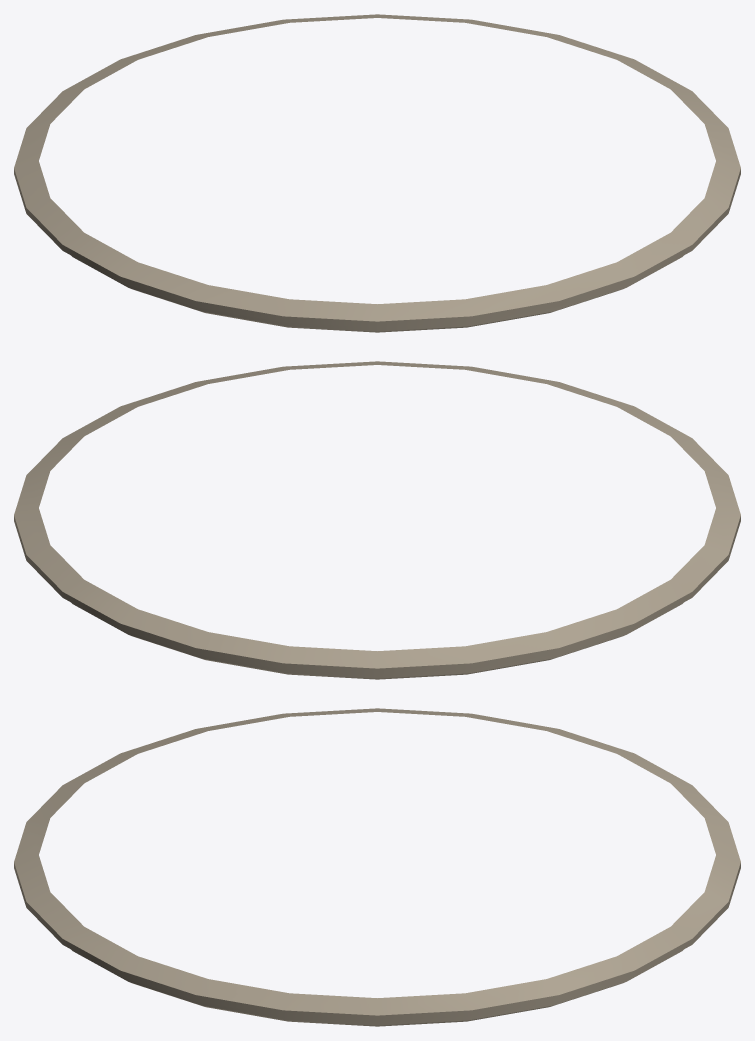
File: dome.trim_top.stone.glb
3 renders of one model, top to bottom at view 1: azimuth 30°, elevation 25°; view 2: azimuth 150°, elevation 25°; view 3: azimuth 270°, elevation 25°, orthographic.
Parts seen in each view (by area): view 1: dome_trim_top_stone; view 2: dome_trim_top_stone; view 3: dome_trim_top_stone.
Part boxes in pixels (x1=…): dome_trim_top_stone: x1=14, y1=14, x2=740, y2=332; dome_trim_top_stone: x1=14, y1=361, x2=740, y2=679; dome_trim_top_stone: x1=14, y1=708, x2=740, y2=1026.
Size of what is drawn, in the model's own units: 7.6 by 0.3 by 7.6.
